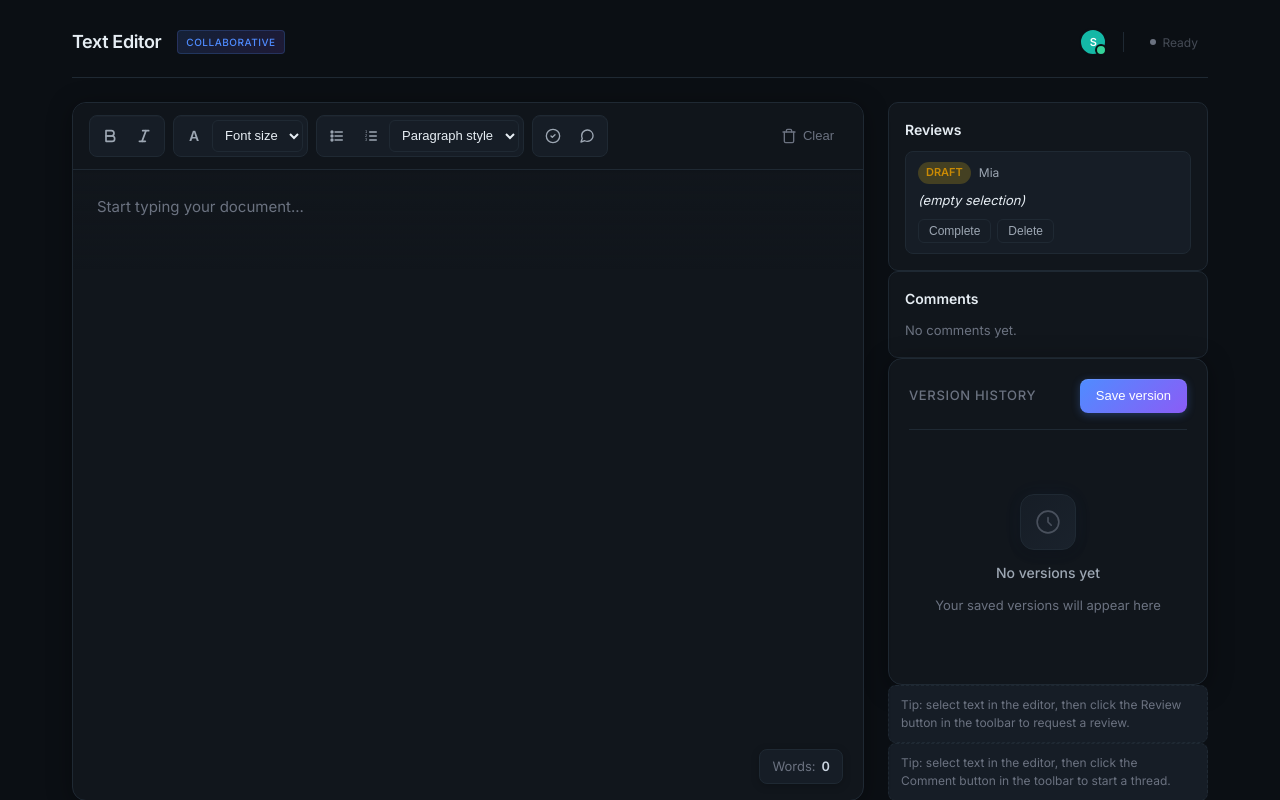
App — Requirement 8: review highlighting end-to-end › deletes a review after confirmation and persists the removal
Check: the list item with test id "review-item-to-delete" is shown, box left=905, top=151, right=1191, bottom=254
Click the button "Delete". click: (1026, 231)
box: left=997, top=219, right=1054, bottom=243
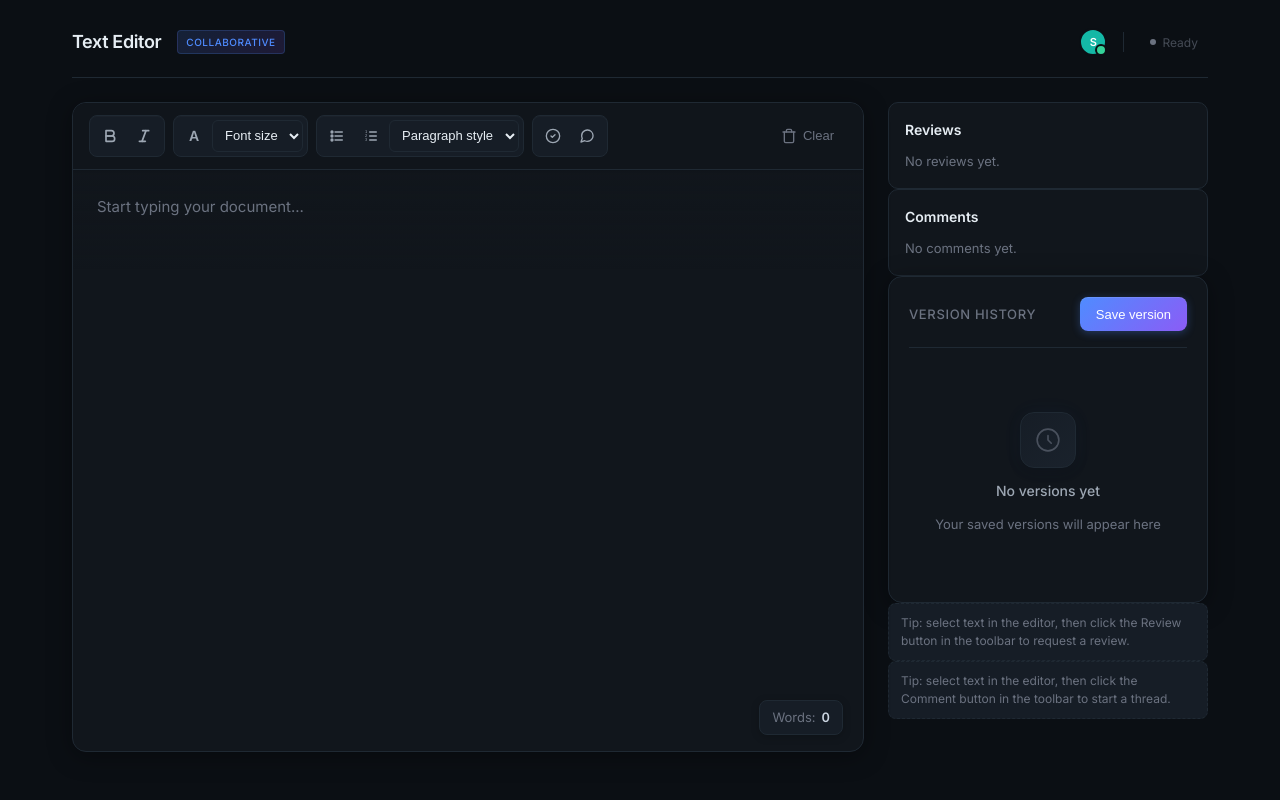
Check: the list item with test id "review-item-to-delete" is gone
